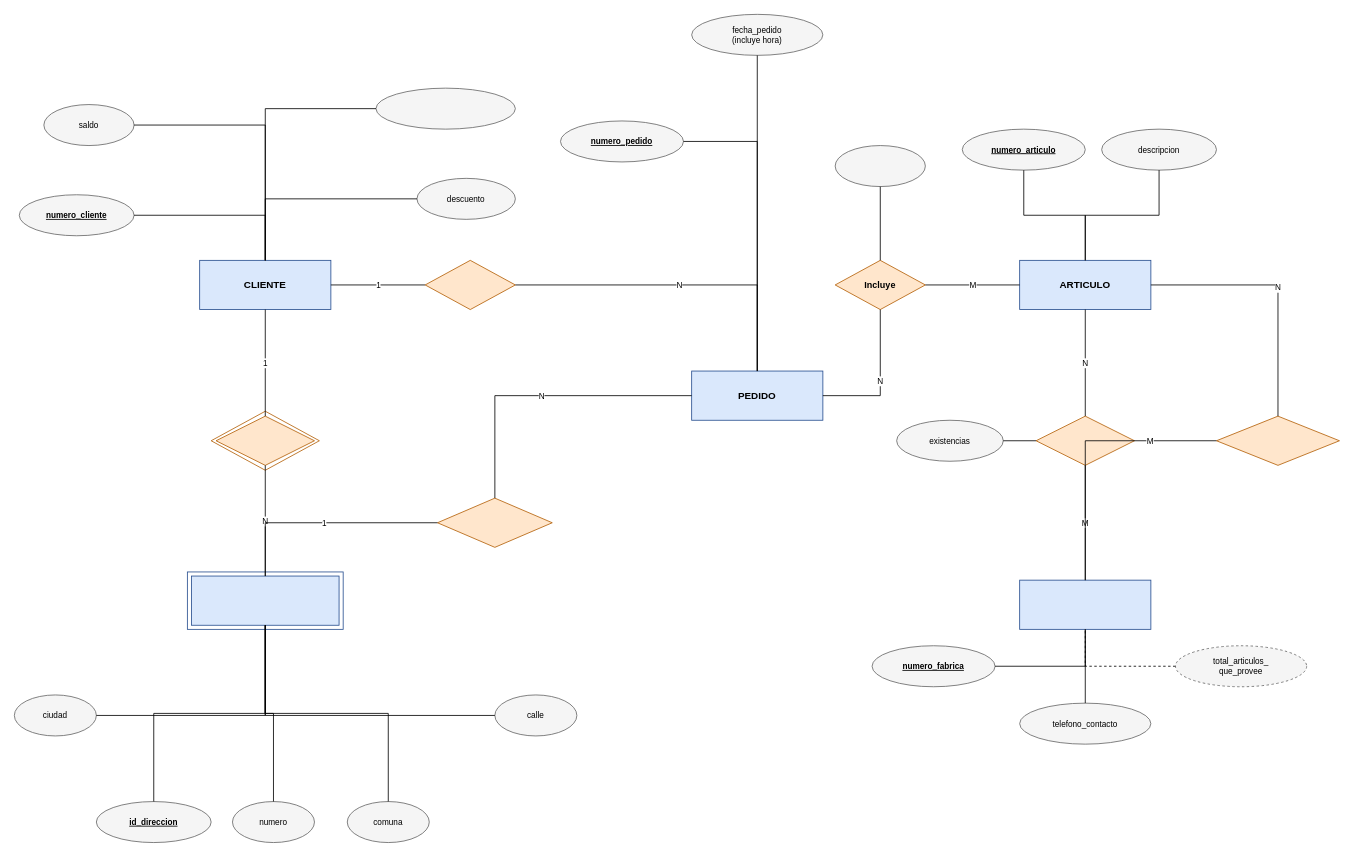
Image size: 1354x857. Some labels were removed from this diagram. The shapes that lost their labels are listed below. From the top down, each one's box as (x1, y1, x2, y2) in pixels, then its label:
(375, 87, 515, 129): limite_credito (<= 3.000.000)
(834, 145, 925, 187): cantidad
(424, 260, 515, 310): Realiza
(215, 415, 314, 465): Tiene
(1035, 415, 1134, 465): Distribuye
(1216, 415, 1339, 465): Fabrica alternativa
(437, 497, 552, 547): Se envia a
(191, 575, 339, 625): DIRECCION_ENVIO
(1019, 579, 1151, 629): FABRICA
